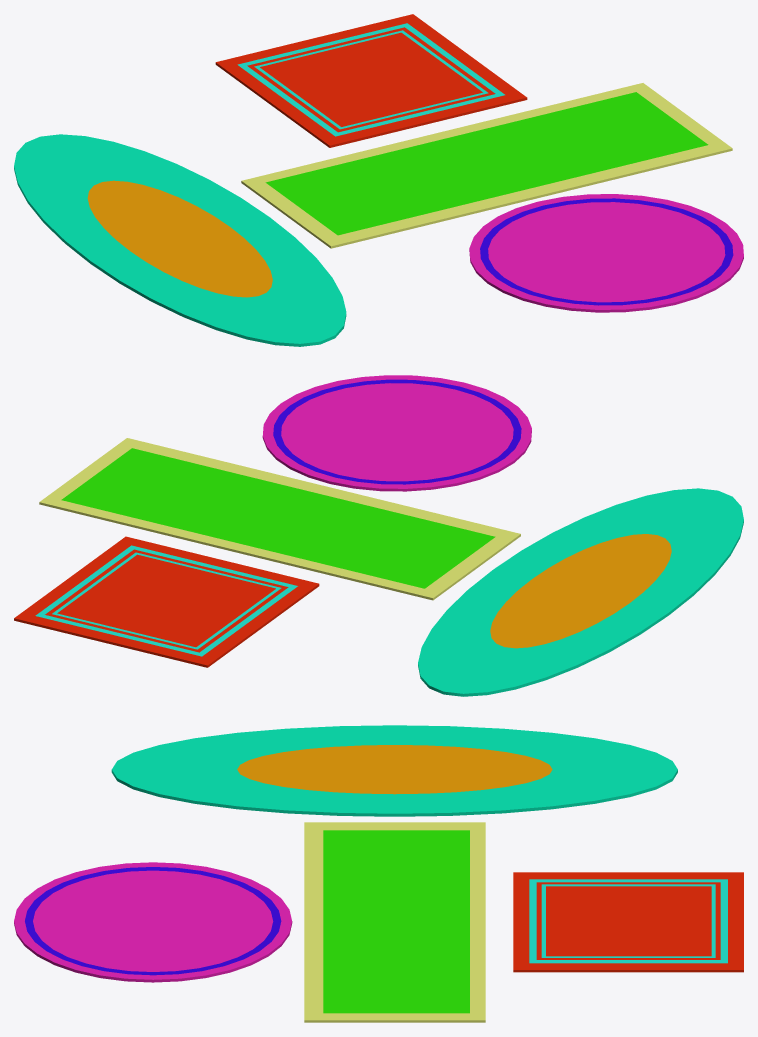
File: Rugs.fbx
The picture shows the model from 3 angles, top to bottom: view 1: azimuth 30°, elevation 25°; view 2: azimuth 150°, elevation 25°; view 3: azimuth 270°, elevation 25°; orthographic projection. The views are drawn at different scales.
Parts seen in each view (by area): view 1: Cylinder.001, Cube, Cylinder, Cube.001; view 2: Cylinder.001, Cube, Cylinder, Cube.001; view 3: Cylinder.001, Cube, Cylinder, Cube.001.
Boxes of the visible parts, bbox=[...] form: Cylinder.001: bbox=[14, 134, 346, 346]; Cube: bbox=[241, 83, 732, 248]; Cylinder: bbox=[469, 194, 743, 312]; Cube.001: bbox=[215, 14, 527, 147]; Cylinder.001: bbox=[418, 488, 743, 696]; Cube: bbox=[39, 438, 520, 600]; Cylinder: bbox=[262, 375, 531, 491]; Cube.001: bbox=[14, 536, 319, 667]; Cylinder.001: bbox=[111, 725, 677, 816]; Cube: bbox=[304, 822, 485, 1022]; Cylinder: bbox=[14, 862, 292, 982]; Cube.001: bbox=[513, 872, 743, 972].
Bounding box in the file's own units: 1324 × 6.38 × 1387.
